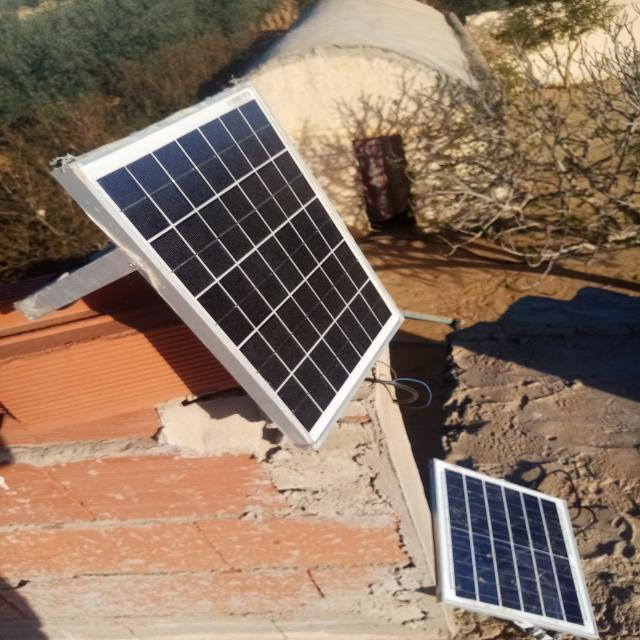faulty: (434, 459, 600, 636)
no faulty: (68, 90, 405, 444)
